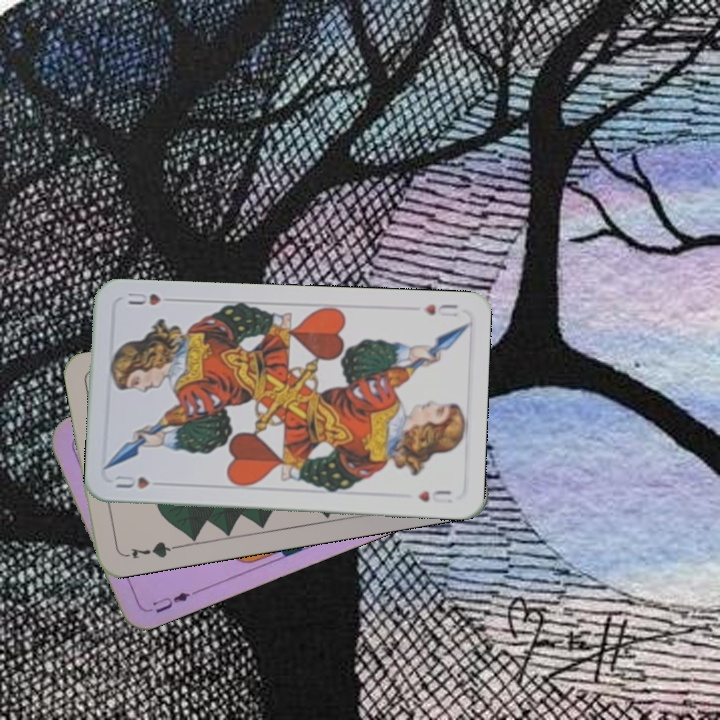EU: (148, 587, 199, 616)
G7: (119, 537, 178, 562)
HU: (111, 471, 152, 491), (420, 300, 461, 319)
